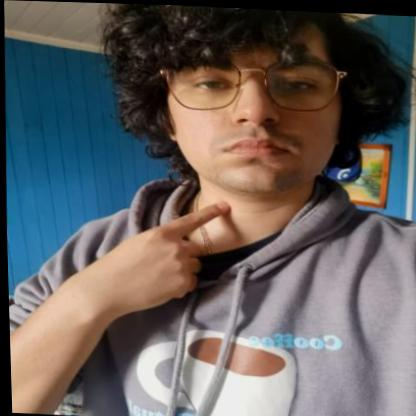Q: (82, 191, 233, 315)
